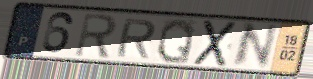6: (41, 10, 76, 57)
N: (229, 22, 281, 70)
Q: (154, 17, 197, 65)
R: (73, 11, 119, 59), (113, 18, 158, 60)
X: (191, 18, 239, 69)
